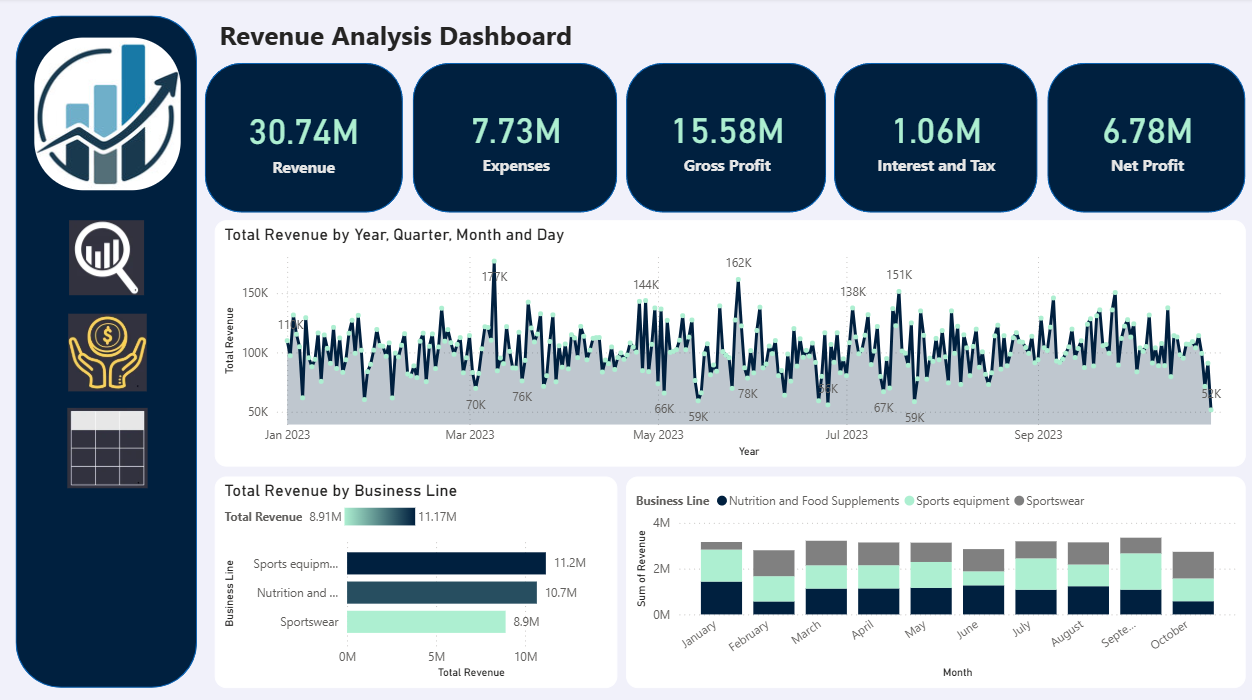

The page's visual inventory and layout, read from the dashboard file:
{"tool":"powerbi","page":{"name":"Revenue ","canvas":[1280,720],"ordinal":1},"visuals":[{"type":"textbox","box":[220.7,13.4,446.9,52.6],"z":0},{"type":"shape","box":[210.6,66.1,201.6,152.3],"z":1000},{"type":"card","fields":{"Values":["Sum(financial_kpis_with_business_line_300_rows.Revenue)"]},"box":[220.7,97.5,180.3,90.7],"z":2000},{"type":"shape","box":[422.3,66.1,208.3,152.3],"z":3000},{"type":"card","fields":{"Values":["Sum(financial_kpis_with_business_line_300_rows.OPEX)"]},"box":[440.2,96.3,173.6,90.7],"z":4000},{"type":"shape","box":[639.6,66.1,203.9,152.3],"z":5000},{"type":"card","fields":{"Values":["Sum(financial_kpis_with_business_line_300_rows.Gross Profit)"]},"box":[658.6,96.3,166.9,90.7],"z":6000},{"type":"shape","box":[851.3,66.1,207.2,152.3],"z":7000},{"type":"shape","box":[1068.6,66.1,201.6,152.3],"z":8000},{"type":"card","fields":{"Values":["Sum(financial_kpis_with_business_line_300_rows.Interest and Tax)"]},"box":[871.5,96.3,166.9,90.7],"z":9000},{"type":"card","fields":{"Values":["Sum(financial_kpis_with_business_line_300_rows.Net Profit)"]},"box":[1086.5,96.3,166.9,90.7],"z":10000},{"type":"shape","box":[17.9,17.9,184.8,684.4],"z":16000},{"type":"image","box":[37,40.3,149,155.7],"z":17000},{"type":"image","box":[70.6,226.3,79.5,76.2],"z":18000},{"type":"image","box":[70.6,321.5,81.8,79.5],"z":19000},{"type":"lineChart","fields":{"Y":["Sum(financial-data.Revenue)"],"Category":["financial-data.Date.Variation.Date Hierarchy.Year","financial-data.Date.Variation.Date Hierarchy.Quarter","financial-data.Date.Variation.Date Hierarchy.Month","financial-data.Date.Variation.Date Hierarchy.Day"]},"box":[220.7,226.3,1049.6,250.9],"z":19001},{"type":"image","box":[70.6,415.6,81.8,85.1],"z":19002},{"type":"clusteredBarChart","fields":{"Category":["financial-data.Business Line"],"Y":["Sum(financial-data.Revenue)"]},"box":[220.7,487.3,410,215.1],"z":19003},{"type":"lineStackedColumnComboChart","fields":{"Category":["financial-data.Date.Variation.Date Hierarchy.Month"],"Y":["Sum(financial-data.Revenue)"],"Series":["financial-data.Business Line"]},"box":[639.6,487.3,630.6,215.1],"z":19004}]}

Visuals, with their boxes in screenshot pixels (x1, y1, x2, y2), scaled from the page's 1280x720 canvas onto the 1252x700 screenshot:
textbox: BBox(216, 13, 653, 64)
shape: BBox(206, 64, 403, 212)
card - Sum(financial_kpis_with_business_line_300_rows.Revenue): BBox(216, 95, 392, 183)
shape: BBox(413, 64, 617, 212)
card - Sum(financial_kpis_with_business_line_300_rows.OPEX): BBox(431, 94, 600, 182)
shape: BBox(626, 64, 825, 212)
card - Sum(financial_kpis_with_business_line_300_rows.Gross Profit): BBox(644, 94, 807, 182)
shape: BBox(833, 64, 1035, 212)
shape: BBox(1045, 64, 1242, 212)
card - Sum(financial_kpis_with_business_line_300_rows.Interest and Tax): BBox(852, 94, 1016, 182)
card - Sum(financial_kpis_with_business_line_300_rows.Net Profit): BBox(1063, 94, 1226, 182)
shape: BBox(18, 17, 198, 683)
image: BBox(36, 39, 182, 191)
image: BBox(69, 220, 147, 294)
image: BBox(69, 313, 149, 390)
lineChart - Sum(financial-data.Revenue) x financial-data.Date.Variation.Date Hierarchy.Year: BBox(216, 220, 1243, 464)
image: BBox(69, 404, 149, 487)
clusteredBarChart - financial-data.Business Line x Sum(financial-data.Revenue): BBox(216, 474, 617, 683)
lineStackedColumnComboChart - financial-data.Date.Variation.Date Hierarchy.Month x Sum(financial-data.Revenue): BBox(626, 474, 1242, 683)
